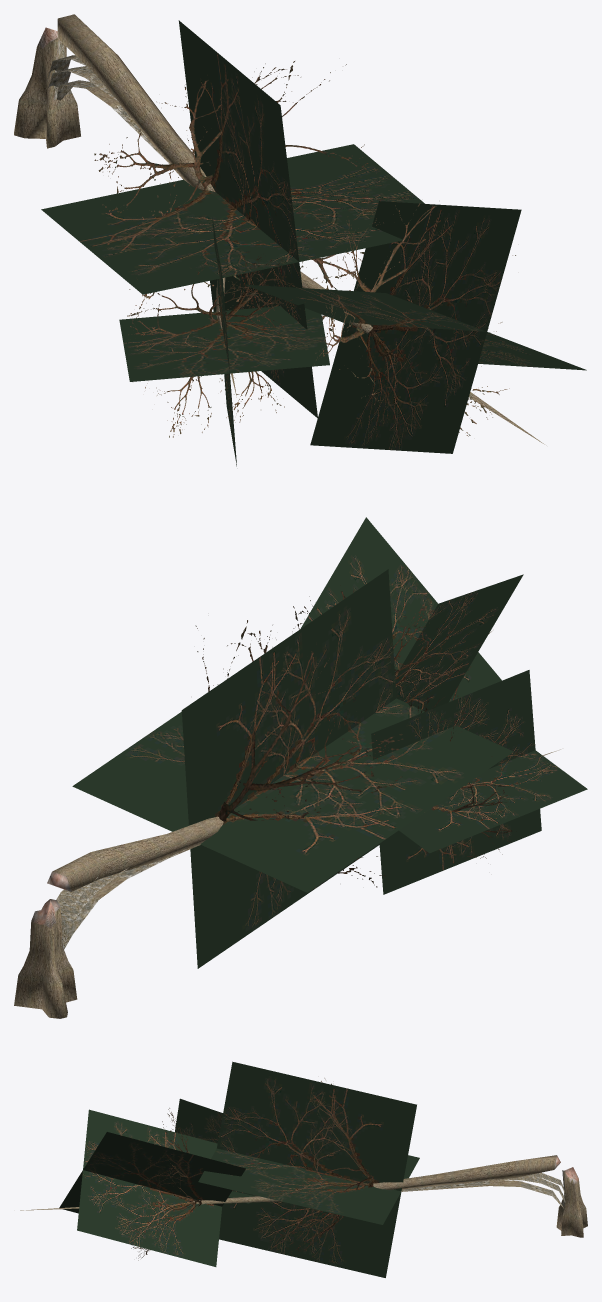
Rendered from decd_maplefallen_l1.fbx.
The picture shows the model from 3 angles, top to bottom: view 1: azimuth 30°, elevation 25°; view 2: azimuth 150°, elevation 25°; view 3: azimuth 270°, elevation 25°; orthographic projection. The views are drawn at different scales.
Visible parts, largest first — view 1: mesh_node; view 2: mesh_node; view 3: mesh_node.
Part boxes in pixels (box(x1,y1,x2,y2)): mesh_node: box(14, 14, 586, 466); mesh_node: box(14, 517, 587, 1018); mesh_node: box(20, 1061, 587, 1277).
Size of the model in its own units: 3.46 by 2.84 by 7.48.
